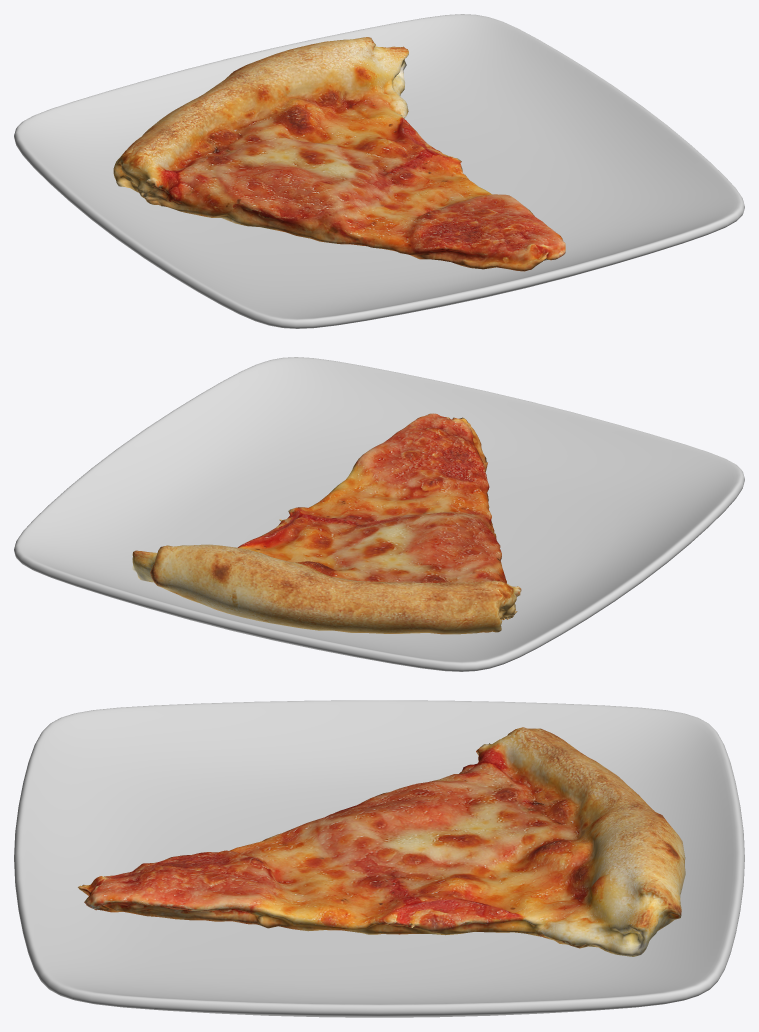
3 views of the same model, one above another, from view 1: azimuth 30°, elevation 25°; view 2: azimuth 150°, elevation 25°; view 3: azimuth 270°, elevation 25° (orthographic). The views are drawn at different scales.
Visible parts, largest first — view 1: cgaxis_models_56_14; view 2: cgaxis_models_56_14; view 3: cgaxis_models_56_14.
Boxes of the visible parts, <box> form: cgaxis_models_56_14: <box>14,14,744,328</box>; cgaxis_models_56_14: <box>14,357,744,671</box>; cgaxis_models_56_14: <box>14,700,744,1017</box>.
Bounding box in the file's own units: 0.0933 × 0.0135 × 0.0932.
Materials: 2 (1 with a texture image).
